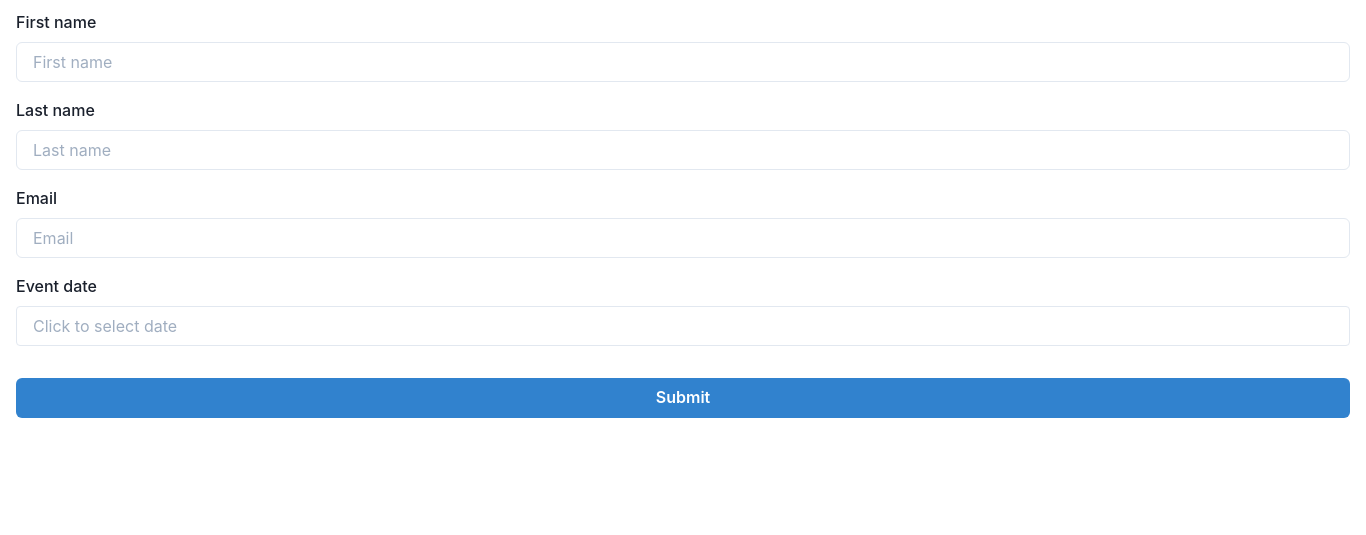
EventForm › should display maximum length error on long name
The image size is (1366, 535).
In the field labelled "First name": {"x": 683, "y": 62} [16, 42, 1350, 82], type "aaaaaaaaaaaaaaaaaaaaaaaaaaaaaaaaaaaaaaaaaaaaaaaaaaaaaaaaaaaaaaa"
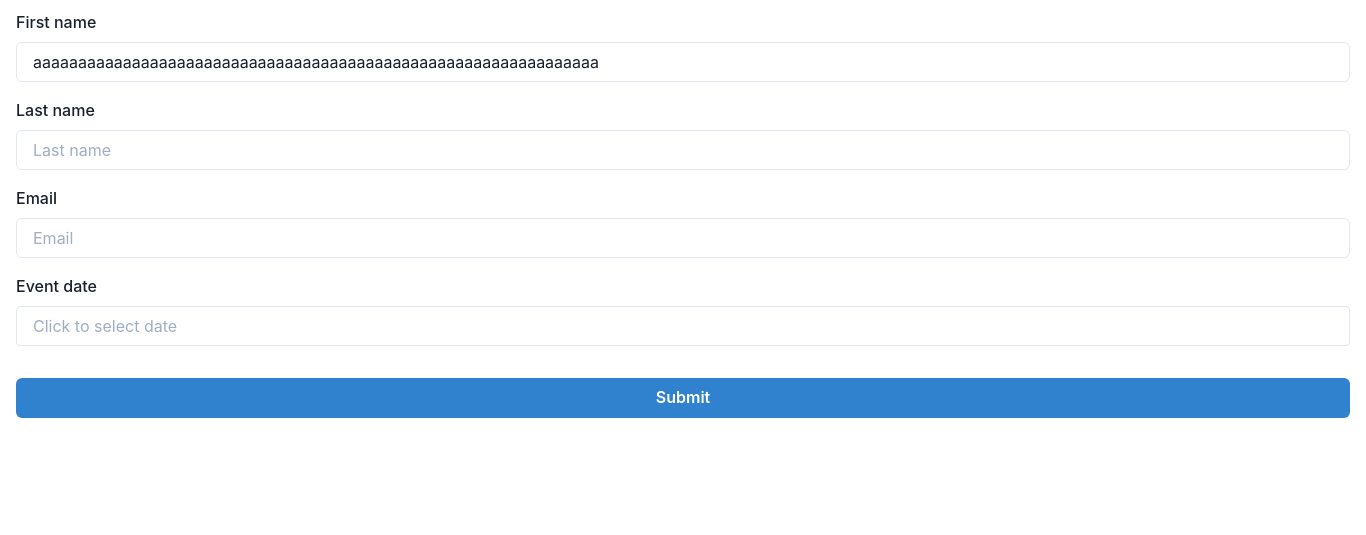
Submit the form from the button, box [16, 378, 1350, 418]
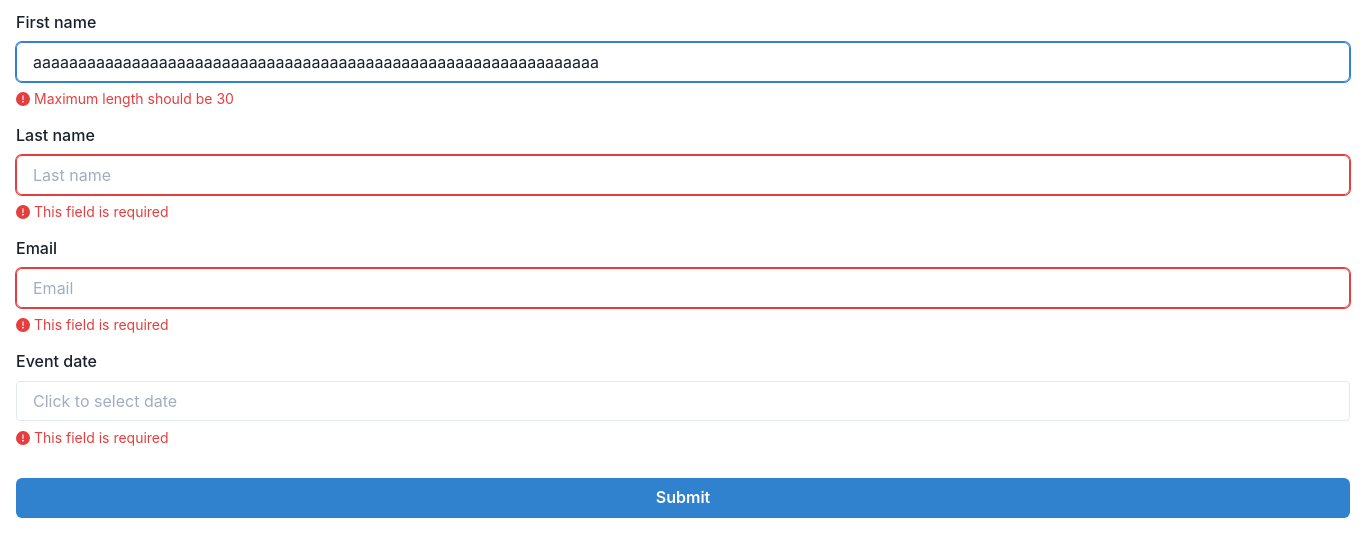
Check: the text "Maximum length should be 30" is shown, box [16, 90, 234, 107]
